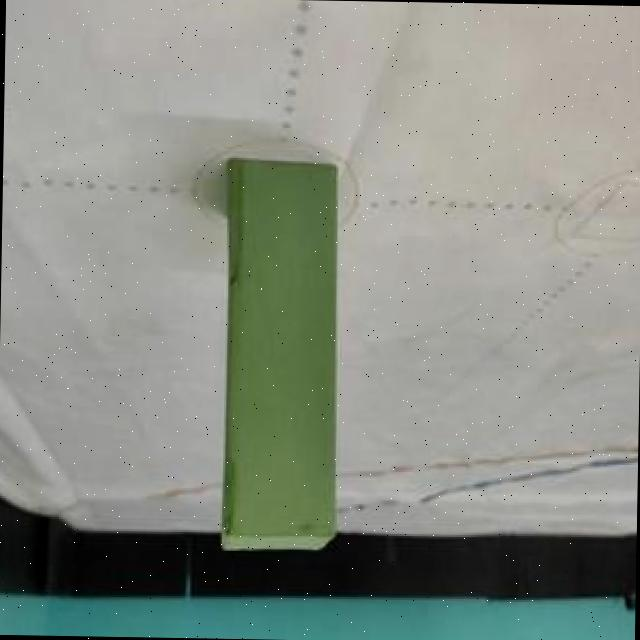greenbox: (216, 156, 348, 558)
